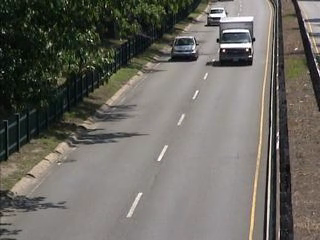car: (171, 34, 201, 62), (204, 6, 227, 28)
truck: (218, 15, 254, 63)
